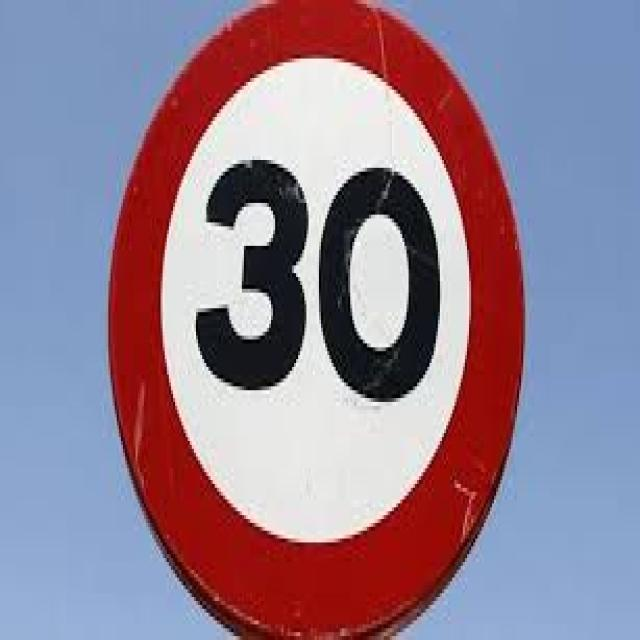Speed limit 30: (106, 1, 529, 633)
